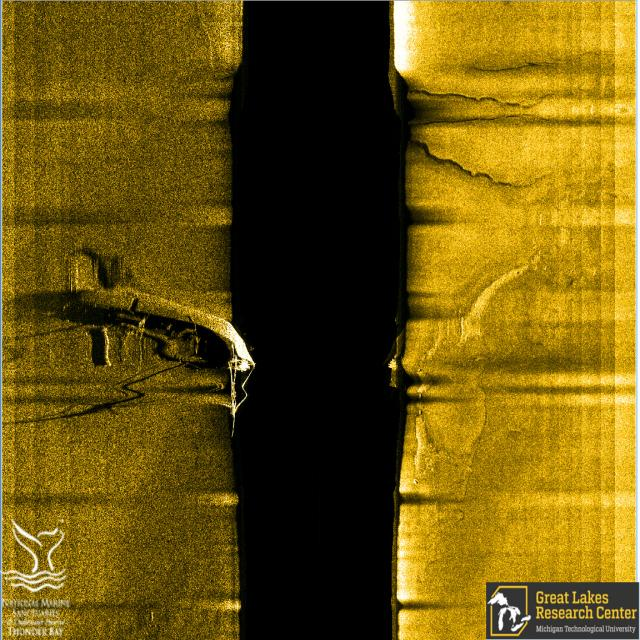ship: (74, 280, 256, 410)
